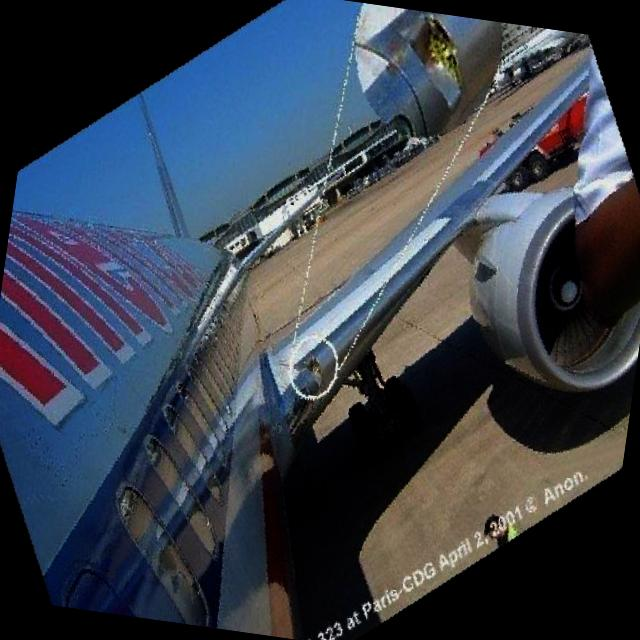dent: (396, 23, 474, 109), (302, 344, 324, 379)
